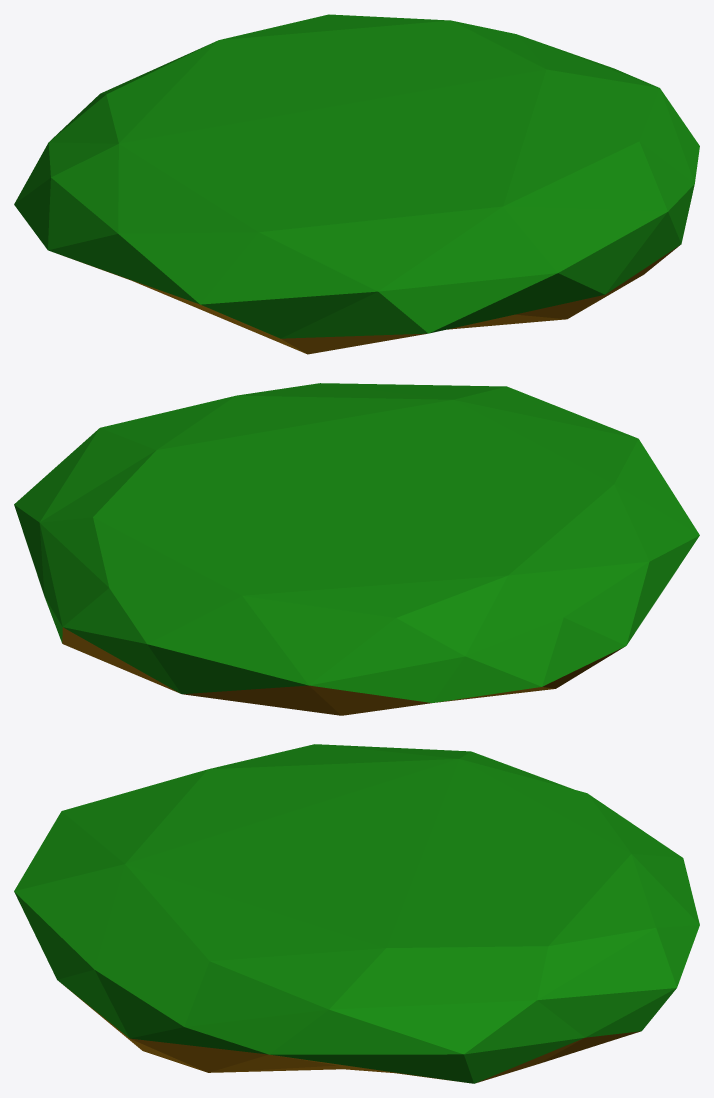
Rendered from platformv2.1.fbx.
3 renders of one model, top to bottom at view 1: azimuth 30°, elevation 25°; view 2: azimuth 150°, elevation 25°; view 3: azimuth 270°, elevation 25°, orthographic. The views are drawn at different scales.
Visible parts, largest first — view 1: Cube; view 2: Cube; view 3: Cube.
Boxes of the visible parts, left/top/right/bottom form: Cube: left=14, top=14, right=699, bottom=354; Cube: left=14, top=383, right=699, bottom=715; Cube: left=14, top=744, right=699, bottom=1083.
Bounding box in the file's own units: 1211 × 293 × 1194.
